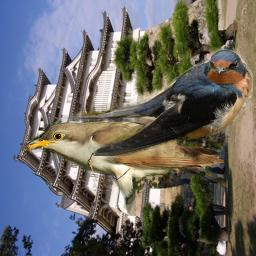Cuckoo: (22, 118, 228, 216)
Swallow: (59, 48, 253, 156)
